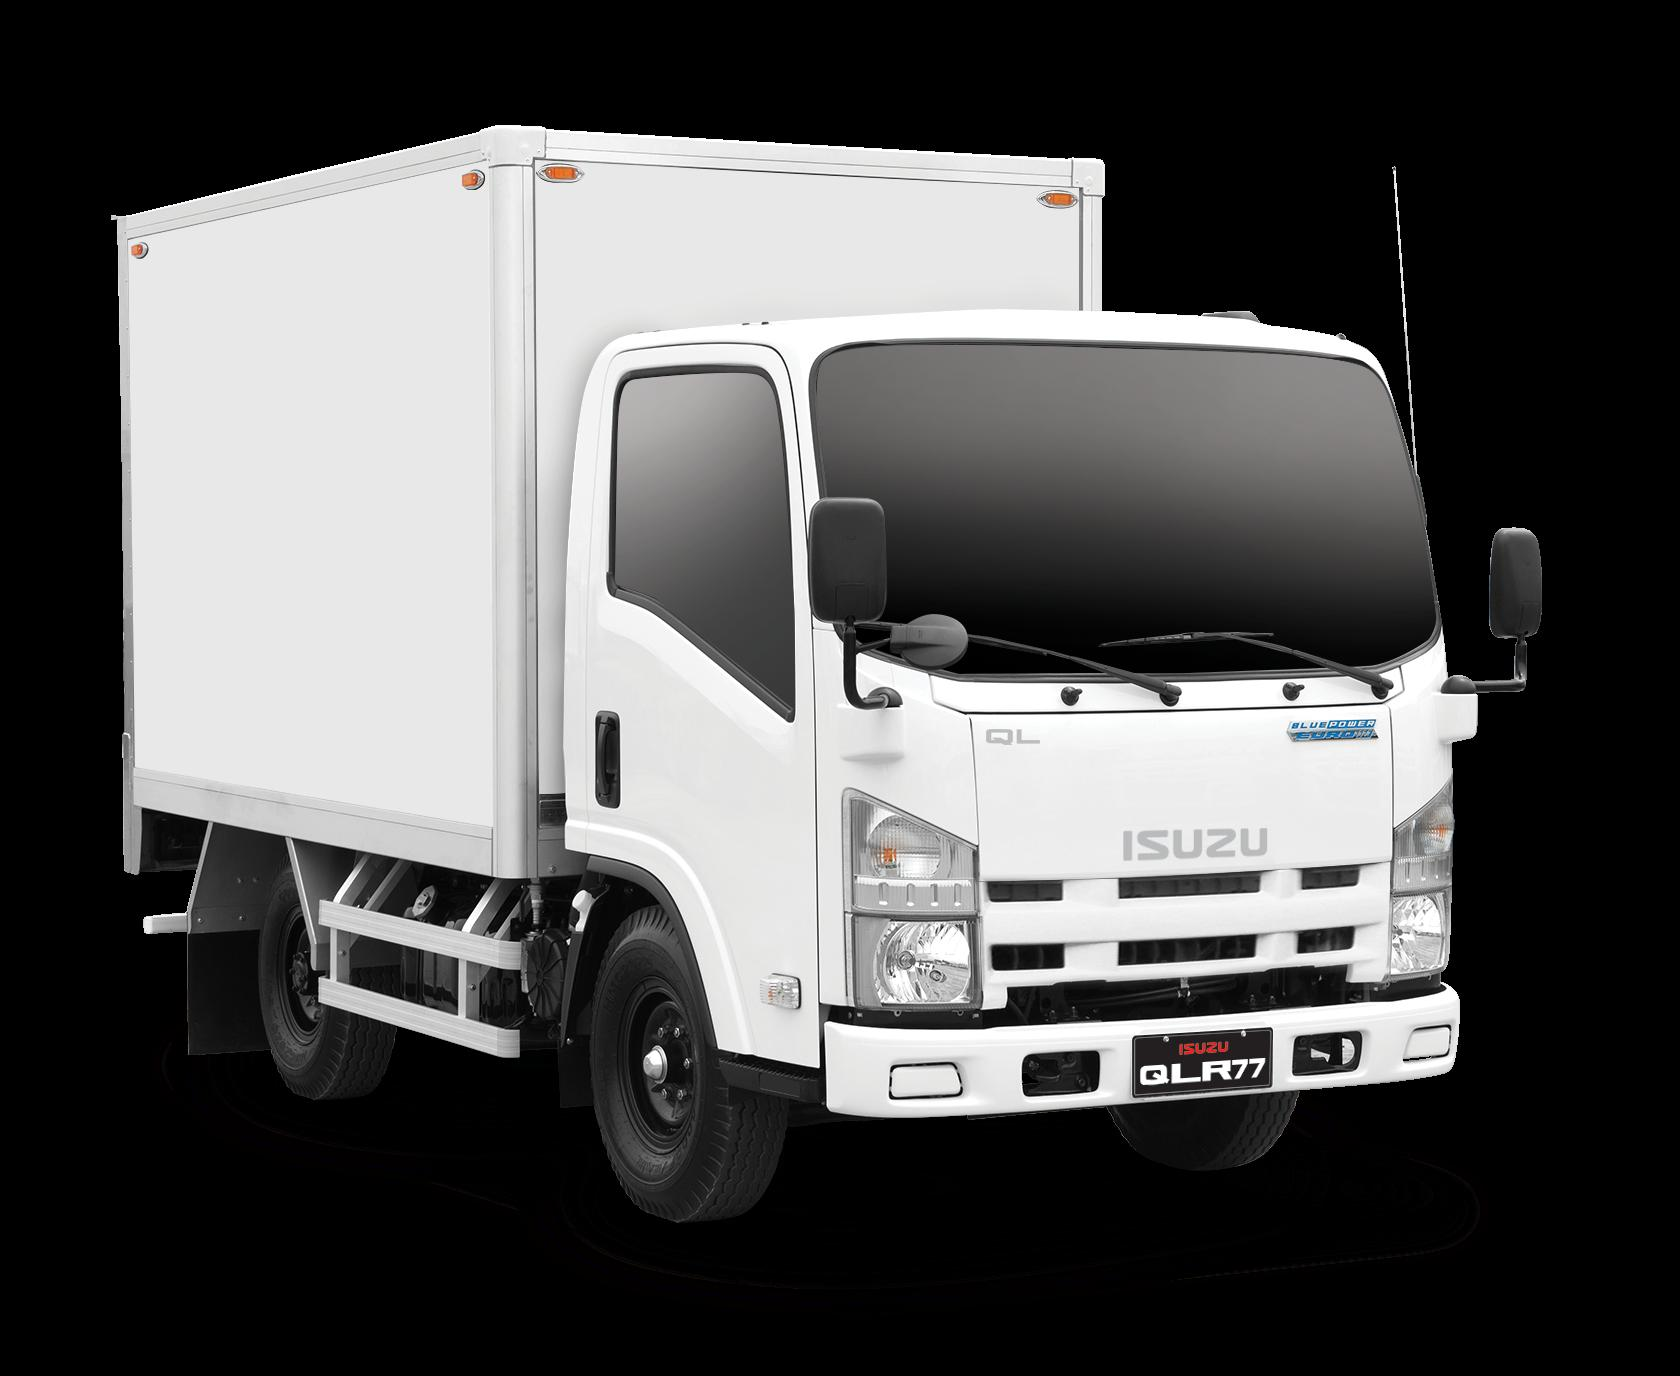truck: (114, 128, 1545, 1225)
